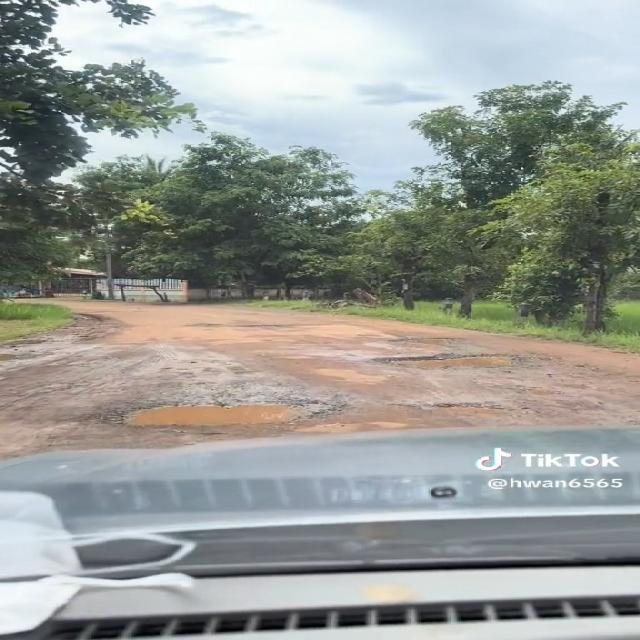Poth-hole: (4, 364, 126, 408)
